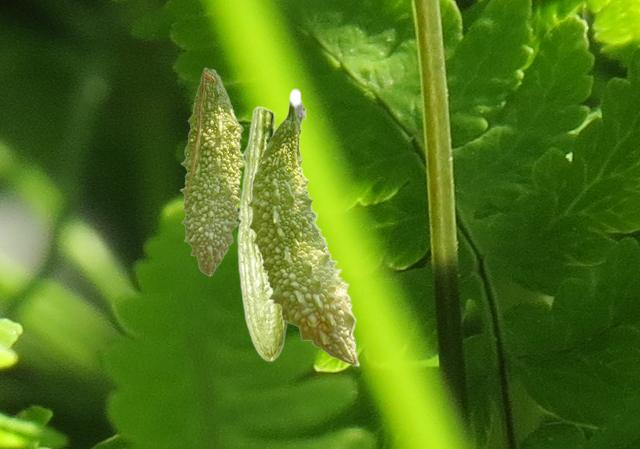ampalaya: (246, 88, 360, 368), (235, 105, 289, 362), (179, 66, 244, 277)
